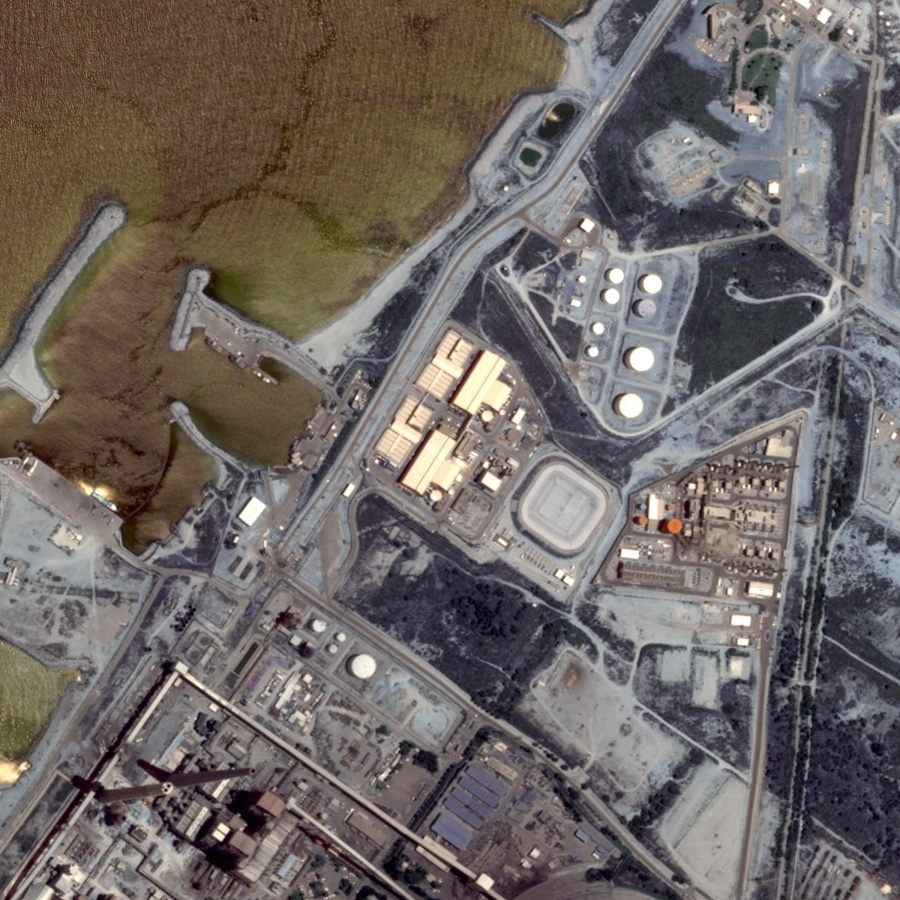PowerPlant: (502, 217, 735, 430)
